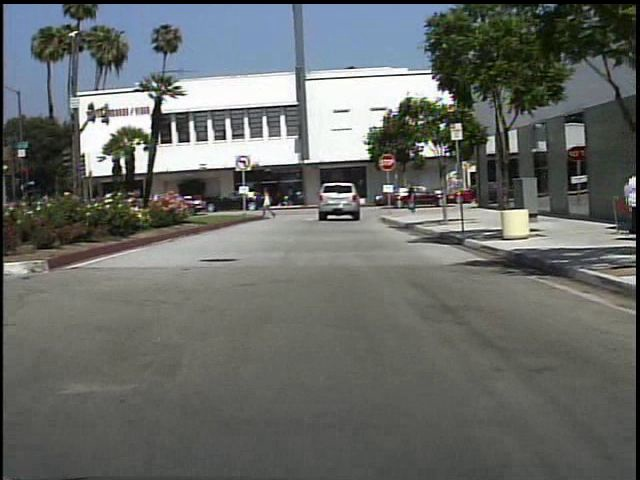person: (618, 167, 635, 239), (260, 182, 281, 220), (402, 180, 423, 216), (292, 182, 293, 208)
